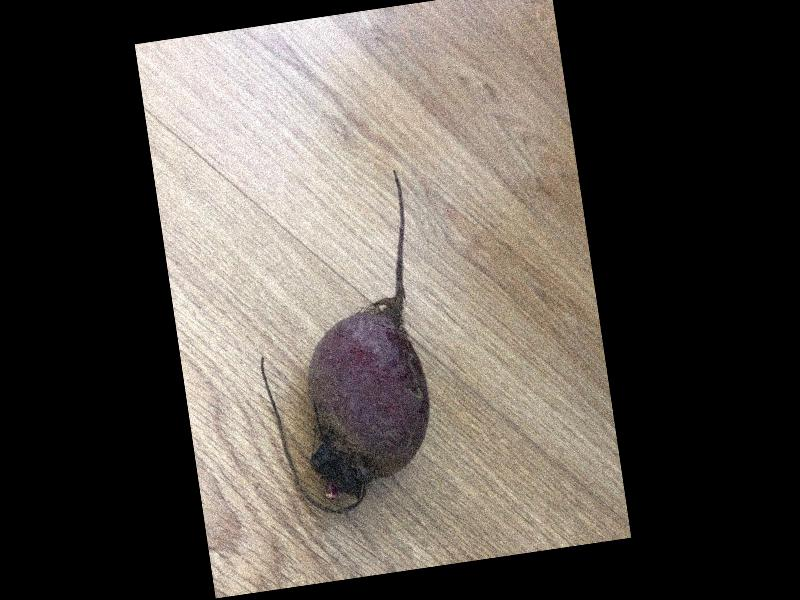Beet: (235, 168, 447, 521)
